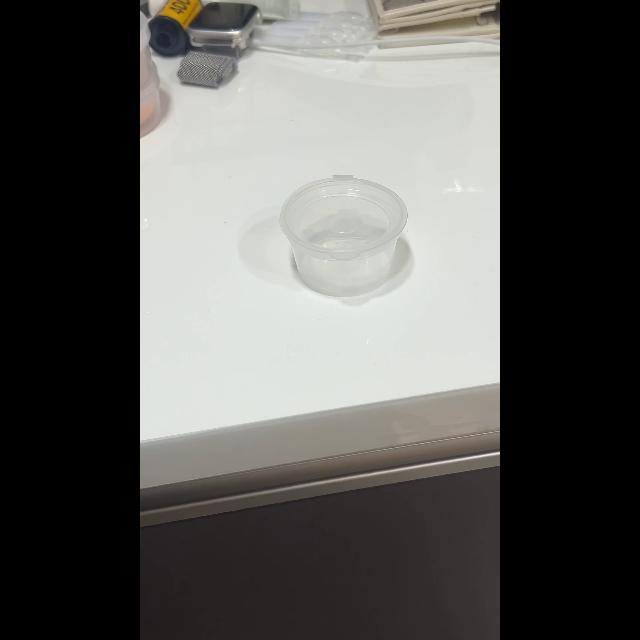clean: (279, 174, 409, 296)
